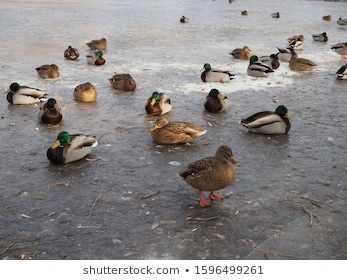duck: (159, 148, 270, 205), (34, 126, 118, 173), (238, 96, 296, 142), (148, 117, 207, 150), (203, 83, 235, 122), (3, 78, 48, 105), (194, 61, 239, 87), (141, 91, 178, 119)
